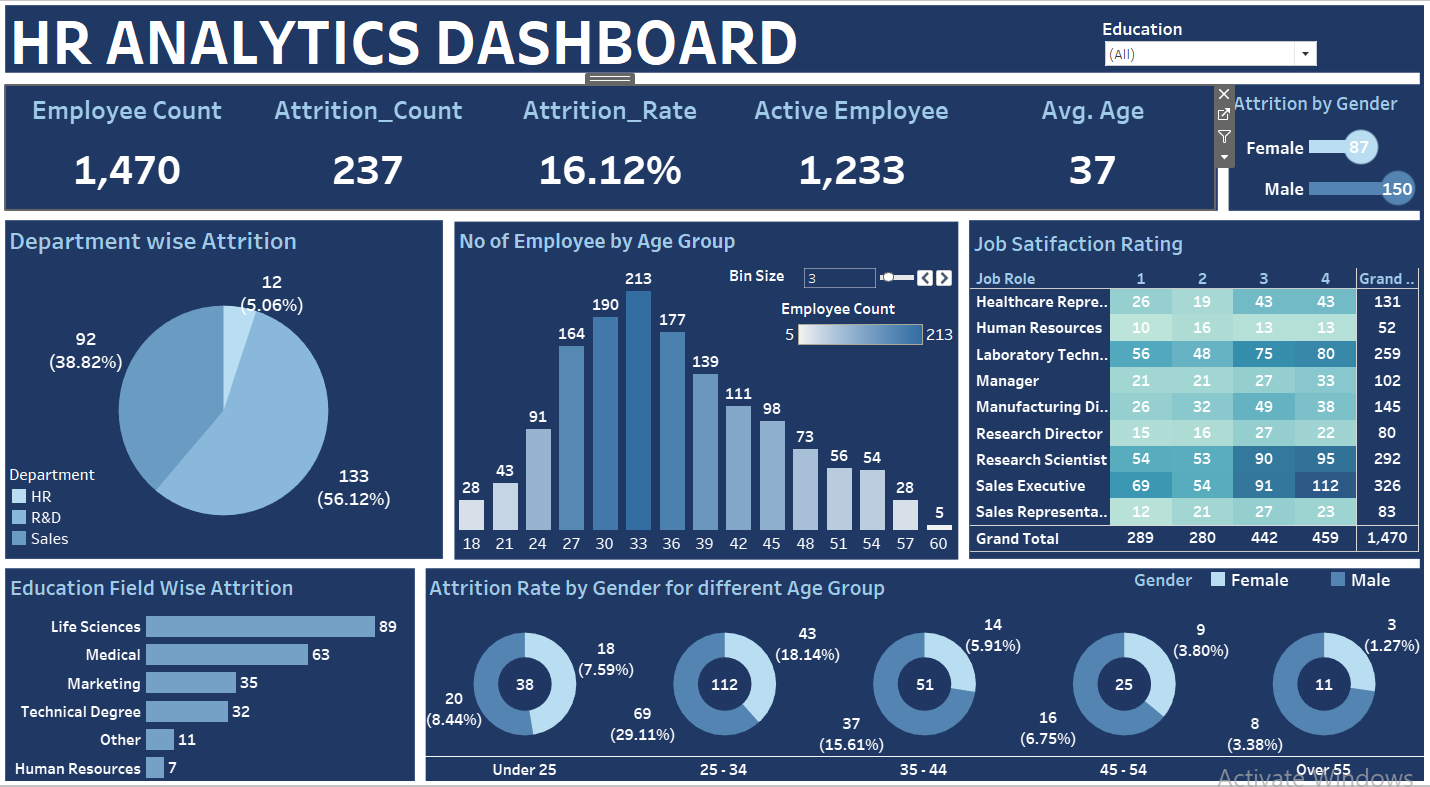

Layout of this report page (visuals, bound fields, positions):
{"tool":"tableau","page":{"name":"HR Analytics Dashboard","canvas":[1580,800],"ordinal":0},"visuals":[{"type":"image","param":"C:/Users/Admin/Downloads/hr.png","box":[8,8,1564,784]},{"type":"text","box":[81,17,901,59]},{"type":"filter","title":"Department wise Attrition","param":"[federated.0eqrpa913eu5a913u47gt1kbq7oa].[none:Education:nk]","box":[1177,23,218,50]},{"type":"worksheet","title":"KPIs","mark":"Automatic","box":[81,93,1208,123]},{"type":"worksheet","title":"Attrition by Gender","mark":"Automatic","rows":["Gender"],"cols":["Calculation_457678319131795456","Calculation_457678319131795456"],"box":[1304,93,191,123]},{"type":"worksheet","title":"Department wise Attrition","mark":"Pie","box":[80,227,437,334]},{"type":"worksheet","title":"No of Employee by Age Group","mark":"Automatic","rows":["Employee Count"],"cols":["Age (bin)"],"box":[530,229,501,333]},{"type":"worksheet","title":"Job Satifaction Rating","mark":"Square","rows":["Job Role"],"cols":["Job Satisfaction"],"box":[1045,232,449,327]},{"type":"parameter","param":"[Parameters].[Parameter 1]","box":[804,272,226,33]},{"type":"legend","title":"No of Employee by Age Group","param":"[federated.0eqrpa913eu5a913u47gt1kbq7oa].[sum:Employee Count:qk]","box":[856,305,177,50]},{"type":"legend","title":"Department wise Attrition","param":"[federated.0eqrpa913eu5a913u47gt1kbq7oa].[none:Department:nk]","box":[84,471,140,94]},{"type":"legend","title":"Attrition by Gender","param":"[federated.0eqrpa913eu5a913u47gt1kbq7oa].[none:Gender:nk]","box":[1209,574.2,327,30.2]},{"type":"worksheet","title":"Education Field Wise Attrition","mark":"Automatic","rows":["Education Field"],"cols":["Calculation_457678319131795456"],"box":[81,576,408,213]},{"type":"worksheet","title":"Attrition Rate by Gender for different Age Group","mark":"Pie","rows":["Calculation_1033013171903217669","Calculation_1033013171903217669"],"cols":["CF_age band"],"box":[500,576,999,212]}]}

Visuals, with their boxes on the page's 1580x800 design canvas (x1, y1, x2, y2). These are canvas units, not pixel positions in the 1430x787 screenshot, which may show the page scaled, cropped or inside an application window:
image: bbox(8, 8, 1572, 792)
text: bbox(81, 17, 982, 76)
"Department wise Attrition" filter: bbox(1177, 23, 1395, 73)
"KPIs" worksheet: bbox(81, 93, 1289, 216)
"Attrition by Gender" worksheet: bbox(1304, 93, 1495, 216)
"Department wise Attrition" worksheet (Pie marks): bbox(80, 227, 517, 561)
"No of Employee by Age Group" worksheet: bbox(530, 229, 1031, 562)
"Job Satifaction Rating" worksheet (Square marks): bbox(1045, 232, 1494, 559)
parameter: bbox(804, 272, 1030, 305)
"No of Employee by Age Group" legend: bbox(856, 305, 1033, 355)
"Department wise Attrition" legend: bbox(84, 471, 224, 565)
"Attrition by Gender" legend: bbox(1209, 574, 1536, 604)
"Education Field Wise Attrition" worksheet: bbox(81, 576, 489, 789)
"Attrition Rate by Gender for different Age Group" worksheet (Pie marks): bbox(500, 576, 1499, 788)
